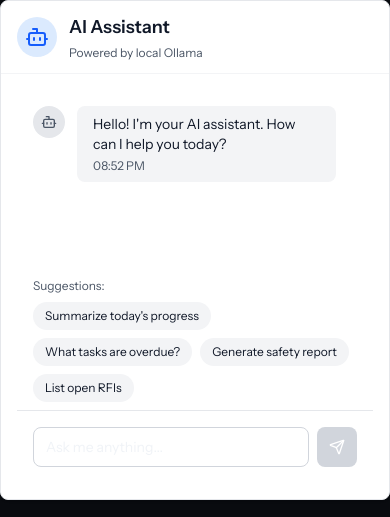
AIAvatar › renders AI replies from the API response shape
Type "Status update" into the field with placeholder "Ask me anything...". click: (171, 447)
box: [33,427,309,467]
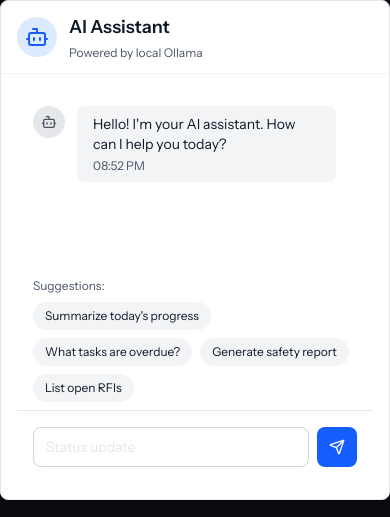
Submit the form with placeholder "Ask me anything...", box [17,410,373,483]
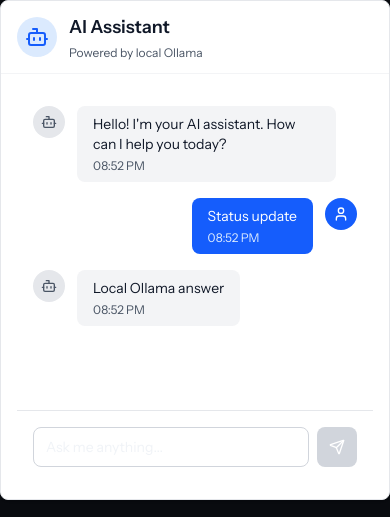
Expected: the text "Powered by local Ollama" is shown, [69,45,203,61]
Result: the text "Local Ollama answer" is shown at [93,278,224,298]
